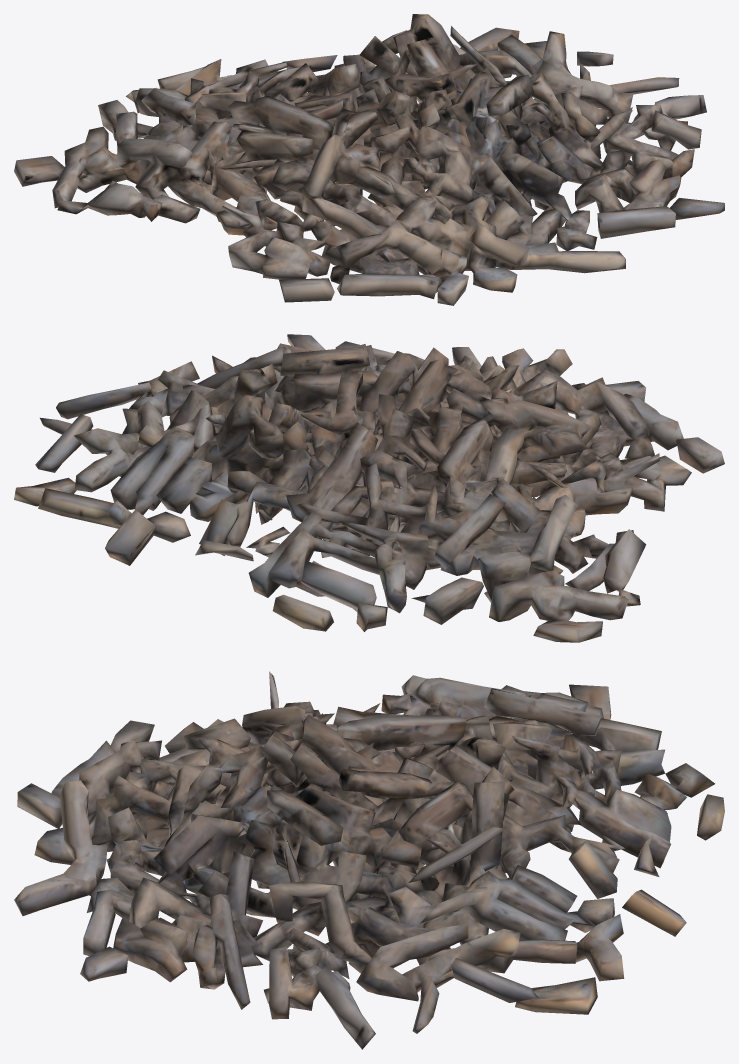
The model's file is wooden_remnants_of_a__1016192534_texture.fbx.
3 renders of one model, top to bottom at view 1: azimuth 30°, elevation 25°; view 2: azimuth 150°, elevation 25°; view 3: azimuth 270°, elevation 25°, orthographic. The views are drawn at different scales.
Visible parts, largest first — view 1: Mesh1.0; view 2: Mesh1.0; view 3: Mesh1.0.
Part boxes in pixels (bbox=[...]): Mesh1.0: bbox=[14, 14, 724, 305]; Mesh1.0: bbox=[14, 334, 724, 642]; Mesh1.0: bbox=[14, 671, 724, 1049].
Bounding box in the file's own units: 200 × 39.09 × 174.
Materials: 1 (1 with a texture image).
